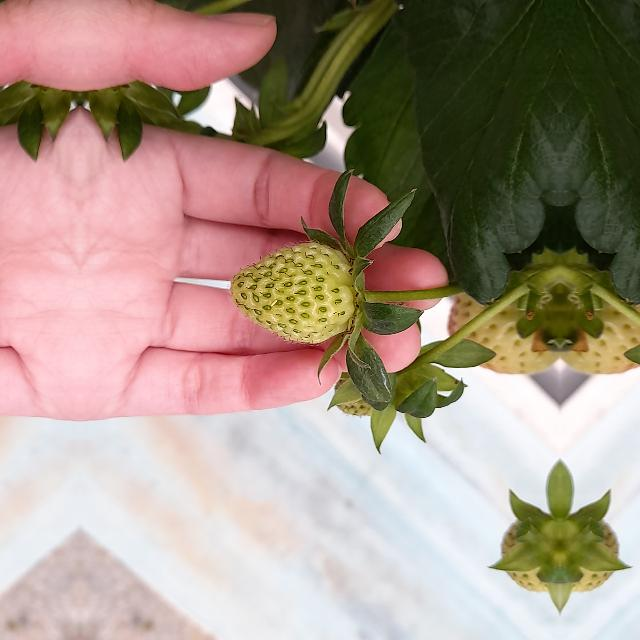Health_25: (230, 241, 358, 343)
